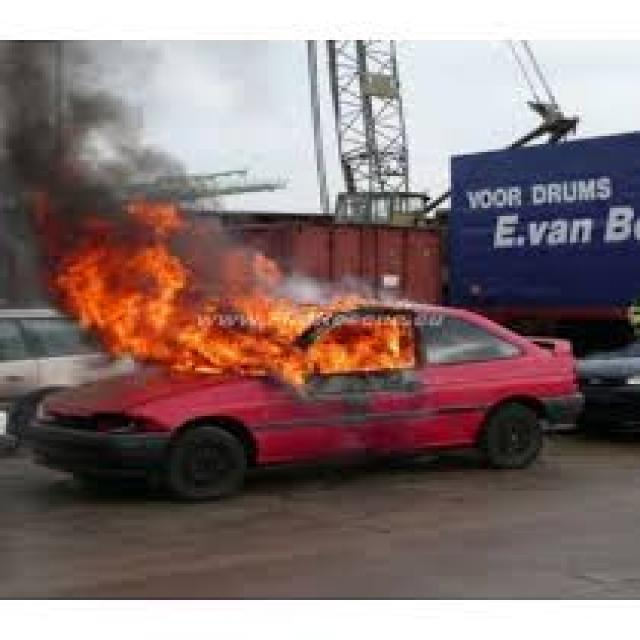fire: (46, 195, 411, 389)
smoke: (3, 42, 210, 226)
